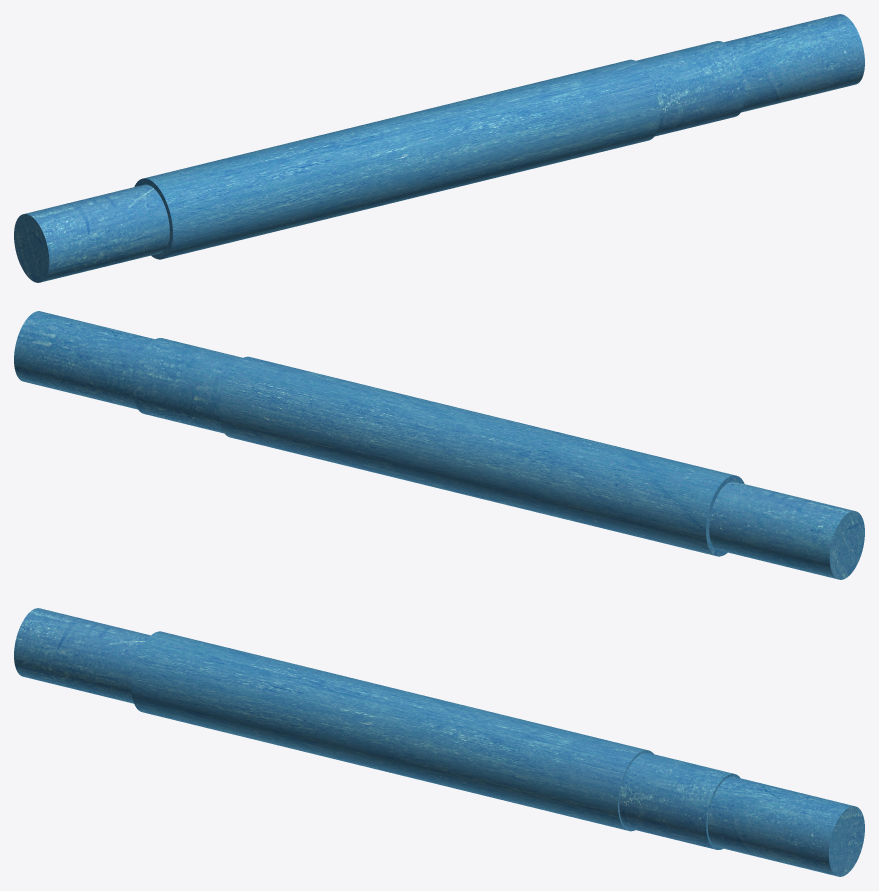
3 renders of one model, top to bottom at view 1: azimuth 30°, elevation 25°; view 2: azimuth 150°, elevation 25°; view 3: azimuth 330°, elevation 25°, orthographic.
Visible parts, largest first — view 1: Cylinder.033_Cylinder.032; view 2: Cylinder.033_Cylinder.032; view 3: Cylinder.033_Cylinder.032.
Part boxes in pixels (<box>): Cylinder.033_Cylinder.032: <box>14,14,864,282</box>; Cylinder.033_Cylinder.032: <box>14,311,864,579</box>; Cylinder.033_Cylinder.032: <box>14,608,864,876</box>.
Size of the model in its own units: 0.2051 by 0.0181 by 0.0181.
